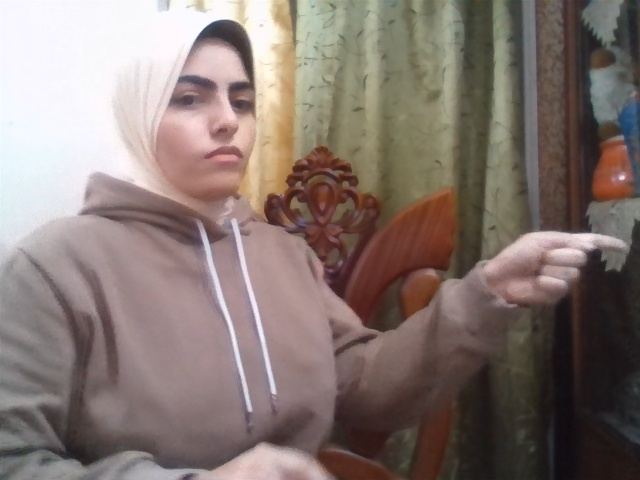G: (493, 231, 630, 306)
